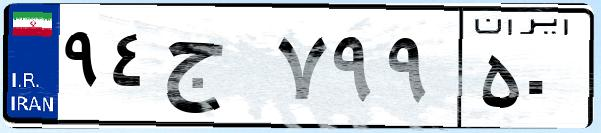0: (525, 38, 570, 115)
4: (110, 28, 158, 98)
5: (475, 38, 525, 113)
7: (270, 28, 330, 110)
9: (385, 28, 445, 110), (330, 28, 385, 110), (57, 26, 110, 100)
ج: (158, 20, 270, 120)
